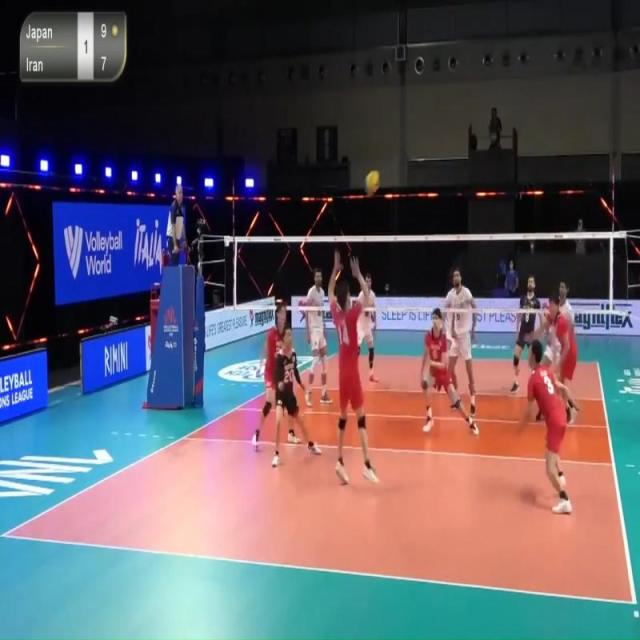volleyball: (364, 172, 379, 194)
